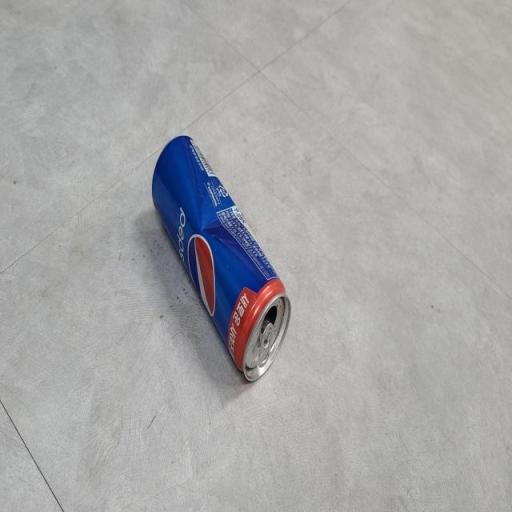metal: (132, 114, 297, 390)
